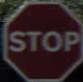Stop: (3, 4, 79, 76)
